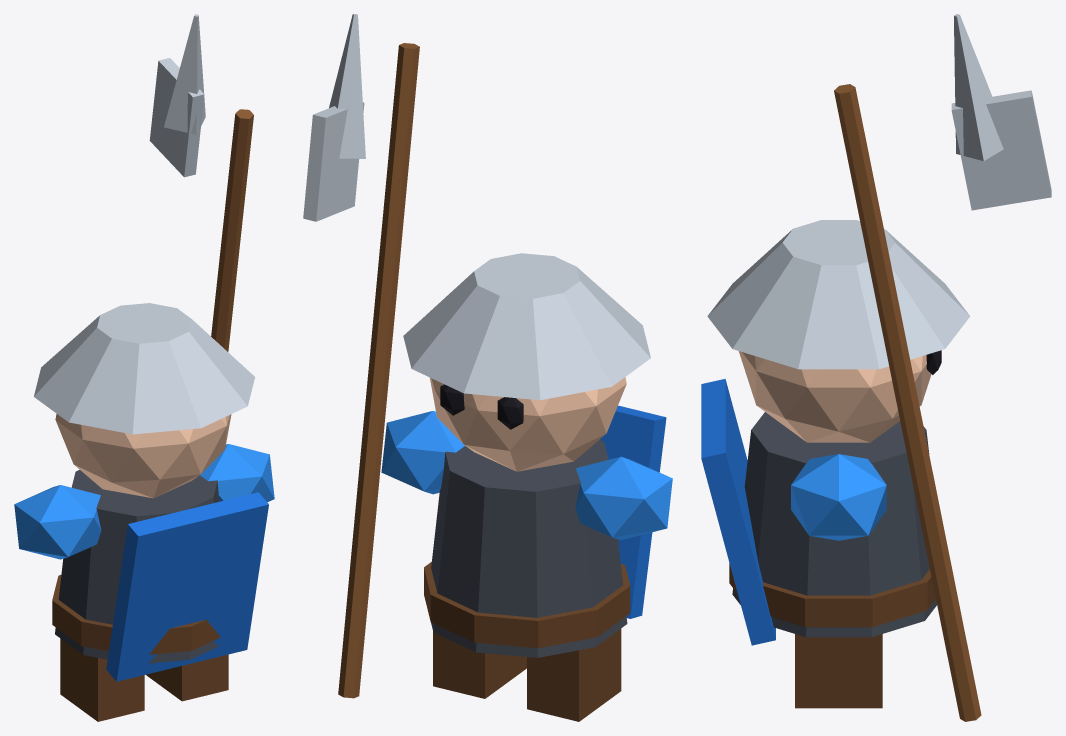
The model's file is unit-spearman.glb.
3 renders of one model, left to right at view 1: azimuth 30°, elevation 25°; view 2: azimuth 150°, elevation 25°; view 3: azimuth 270°, elevation 25°, orthographic. The views are drawn at different scales.
Parts seen in each view (by area): view 1: Unit_Spearman; view 2: Unit_Spearman; view 3: Unit_Spearman.
Part boxes in pixels (box(x1,y1,x2,y2)): Unit_Spearman: box(14, 14, 274, 721); Unit_Spearman: box(303, 14, 672, 721); Unit_Spearman: box(701, 14, 1051, 721).
Bounding box in the file's own units: 1.07 × 2.52 × 1.12.
